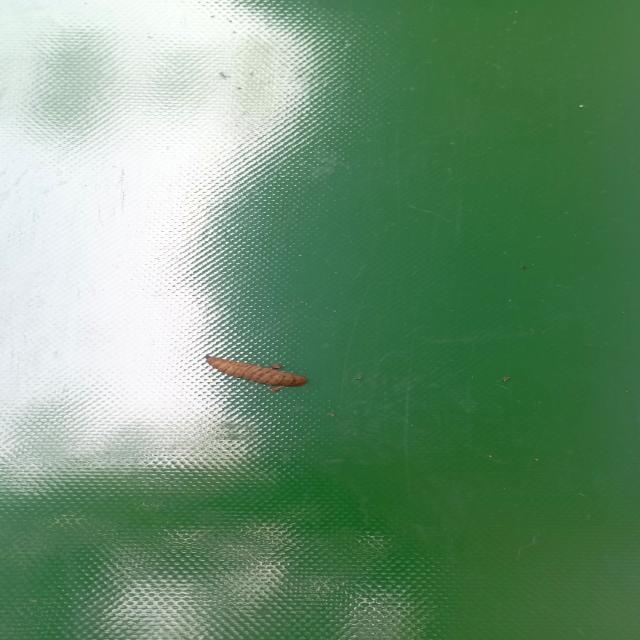Maggot: (206, 355, 309, 391)
